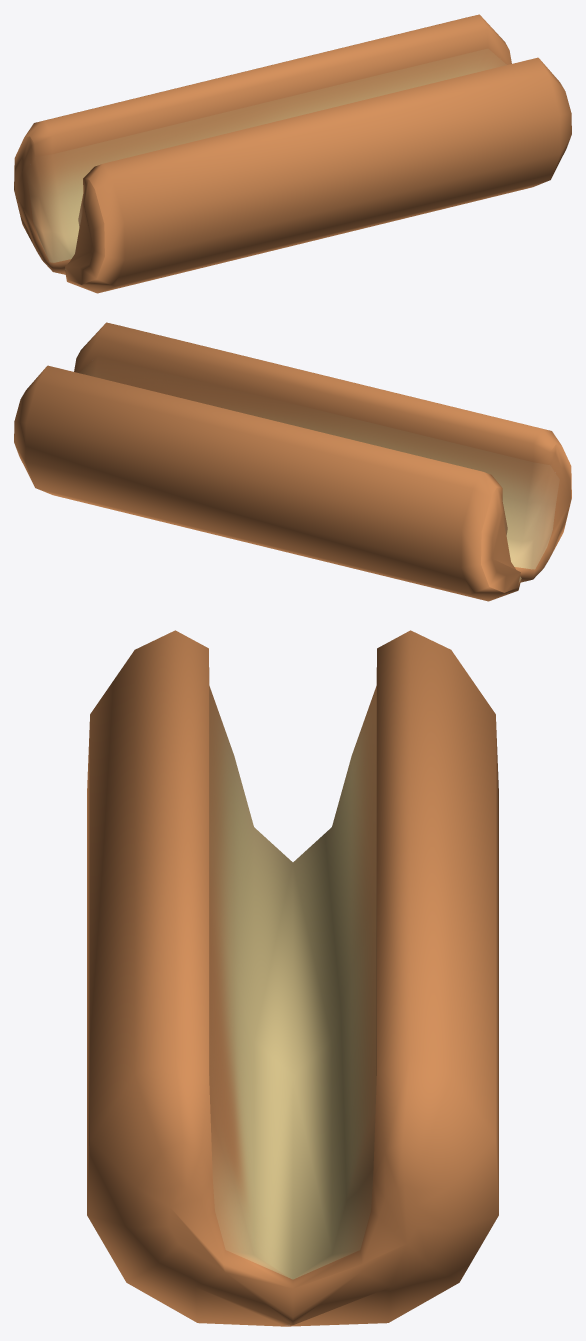
The model's file is bread.fbx.
3 renders of one model, top to bottom at view 1: azimuth 30°, elevation 25°; view 2: azimuth 150°, elevation 25°; view 3: azimuth 270°, elevation 25°, orthographic. The views are drawn at different scales.
Parts seen in each view (by area): view 1: Cylinder; view 2: Cylinder; view 3: Cylinder.
Boxes of the visible parts, x1=… form: Cylinder: x1=14, y1=14, x2=571, y2=293; Cylinder: x1=14, y1=322, x2=571, y2=601; Cylinder: x1=87, y1=630, x2=498, y2=1326.
Bounding box in the file's own units: 24.04 × 6.36 × 8.75.
Materials: 1 (1 with a texture image).
